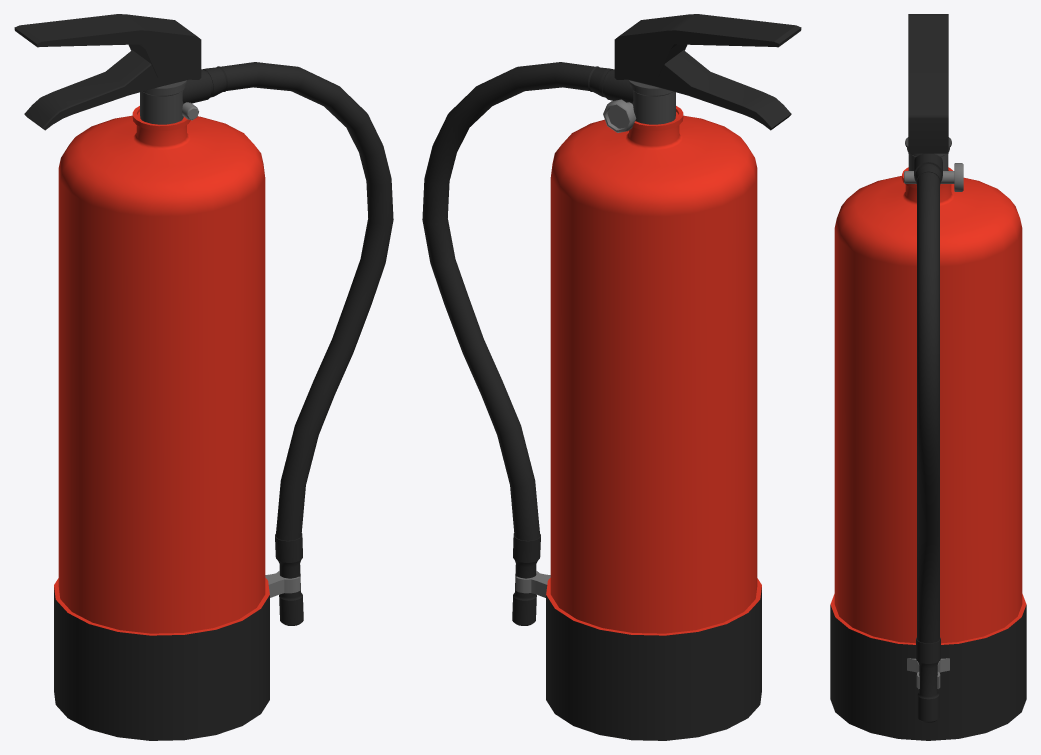
File: fire distinguisher.fbx
3 renders of one model, left to right at view 1: azimuth 30°, elevation 25°; view 2: azimuth 150°, elevation 25°; view 3: azimuth 270°, elevation 25°, orthographic. The views are drawn at different scales.
Visible parts, largest first — view 1: Cylinder; view 2: Cylinder; view 3: Cylinder.
Part boxes in pixels (bbox=[...]): Cylinder: bbox=[14, 14, 393, 740]; Cylinder: bbox=[422, 14, 801, 740]; Cylinder: bbox=[830, 14, 1026, 740].
Bounding box in the file's own units: 4.18 × 7.57 × 2.15.
